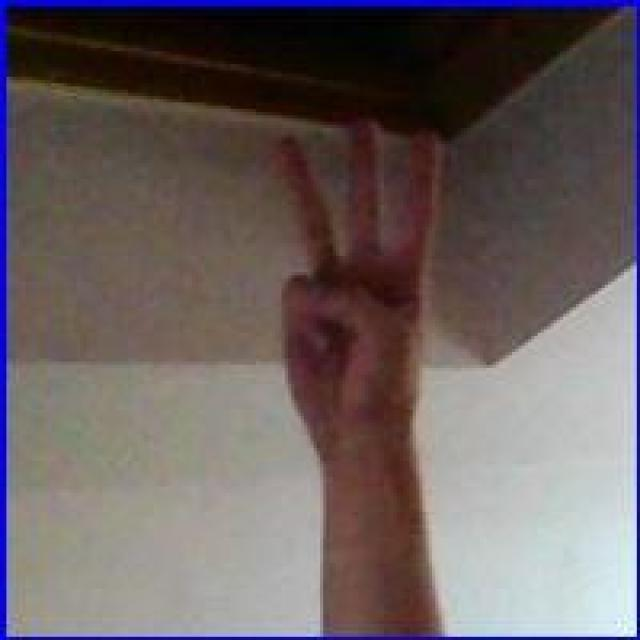W: (261, 112, 443, 445)
